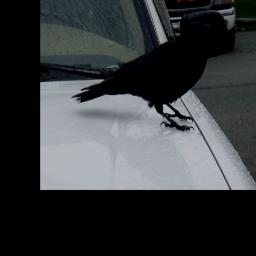Crow: (72, 20, 214, 133)
